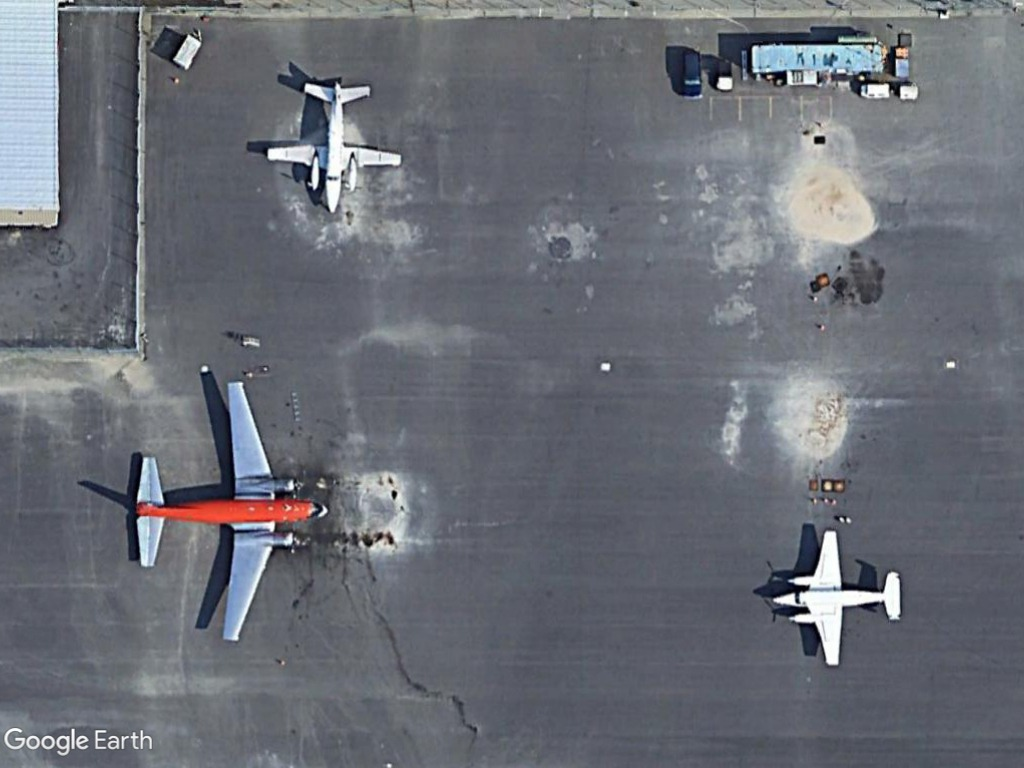car: (677, 48, 706, 103)
propeller: (119, 377, 337, 649), (770, 523, 907, 671), (266, 71, 402, 215)
